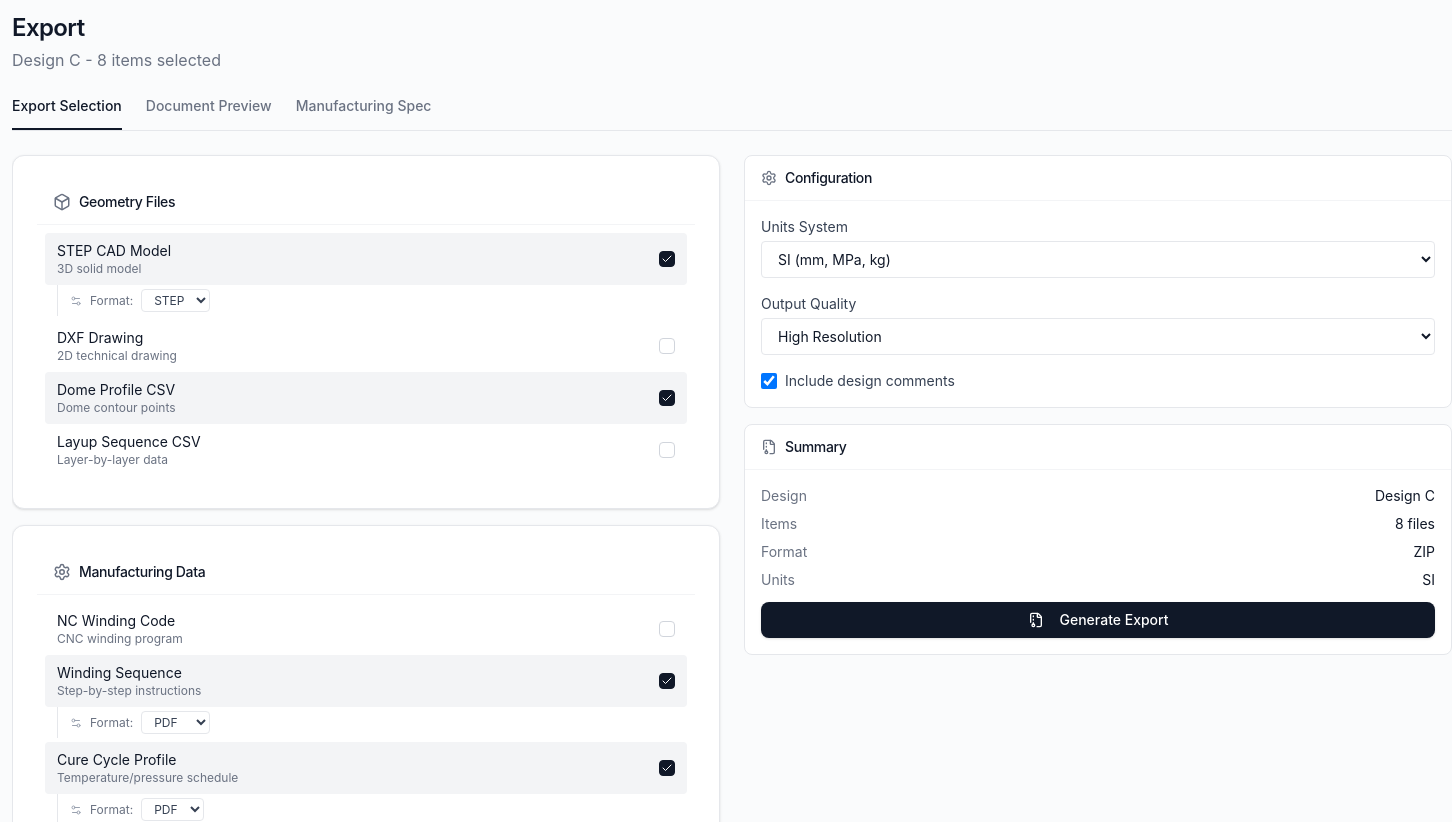
Test: ExportScreen › Format Selection › should toggle export option selection
This screenshot has width=1452, height=822.
Find and click a non-selected option
Click the text "DXF Drawing": click(100, 338) [57,329,143,346]
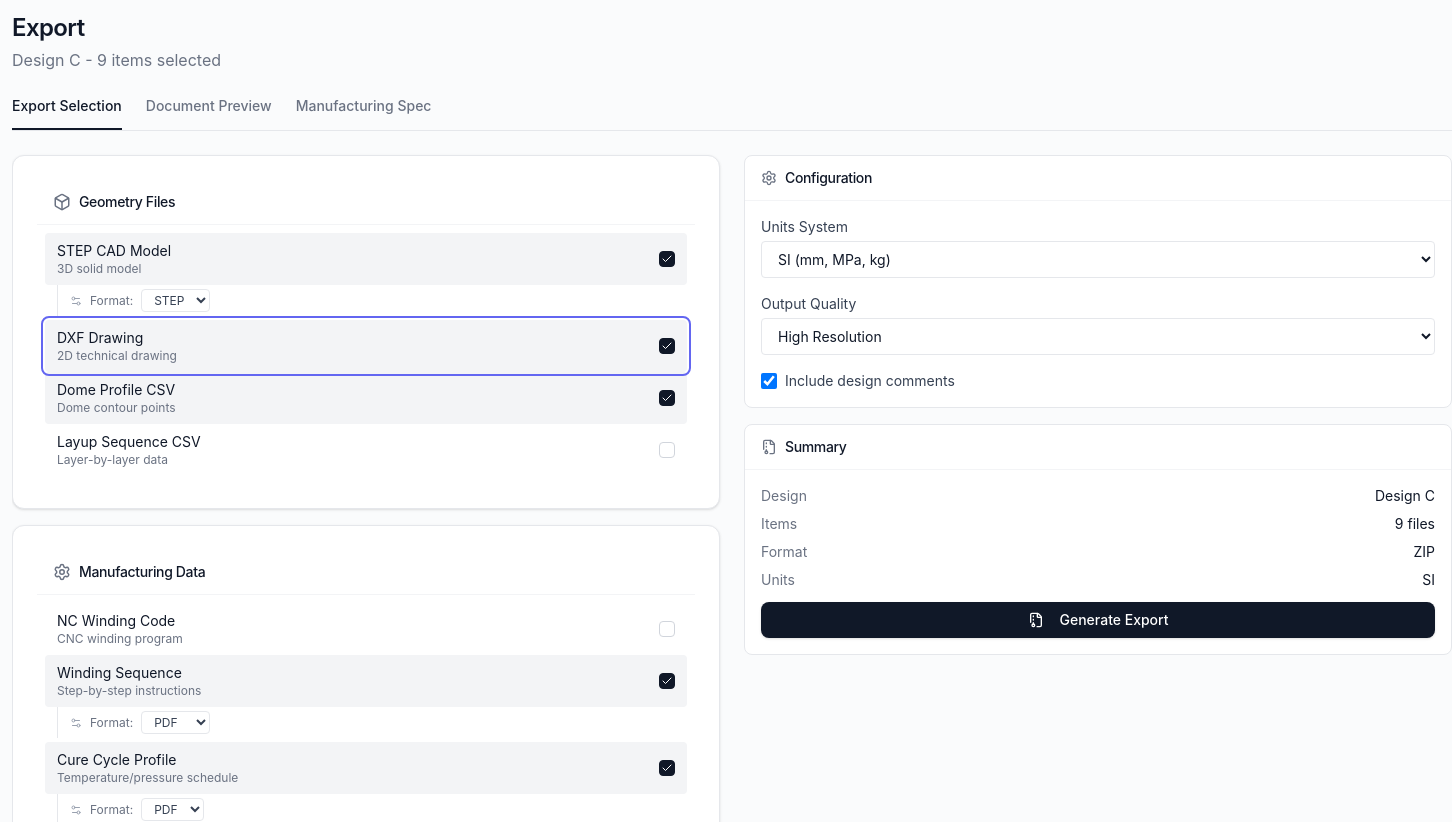
Now the text "Design C - 9 items selected" is shown, box [12,48,221,72]
